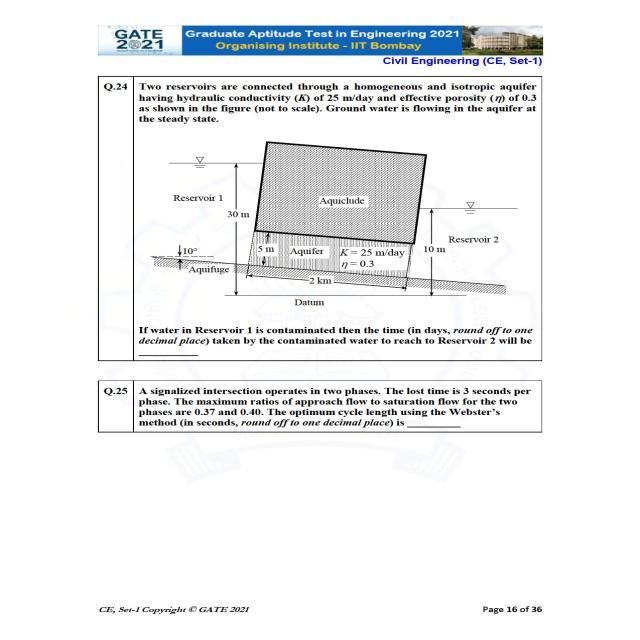Question_Answer_Block: (98, 75, 540, 360), (97, 378, 540, 431)
Question_Block: (99, 76, 542, 360), (98, 378, 540, 430)
Question_Paper_Area: (99, 76, 542, 431)
